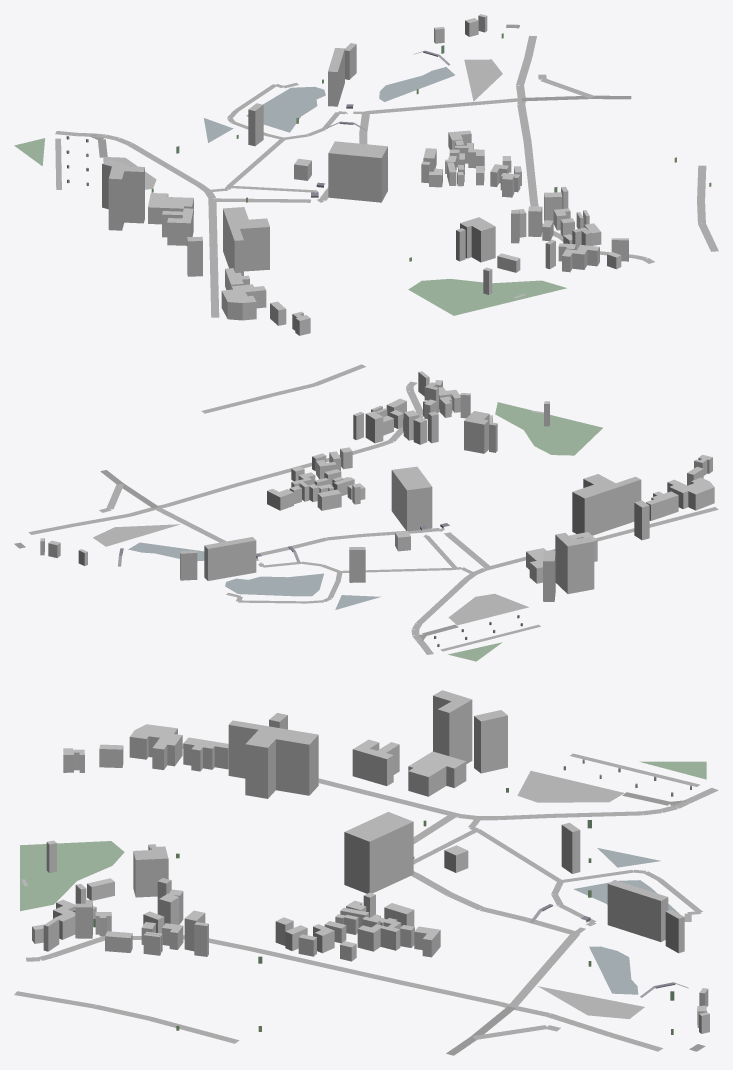
The picture shows the model from 3 angles, top to bottom: view 1: azimuth 30°, elevation 25°; view 2: azimuth 150°, elevation 25°; view 3: azimuth 270°, elevation 25°; orthographic projection. The views are drawn at different scales.
Bounding box in the file's own units: 544 × 50.53 × 513.
